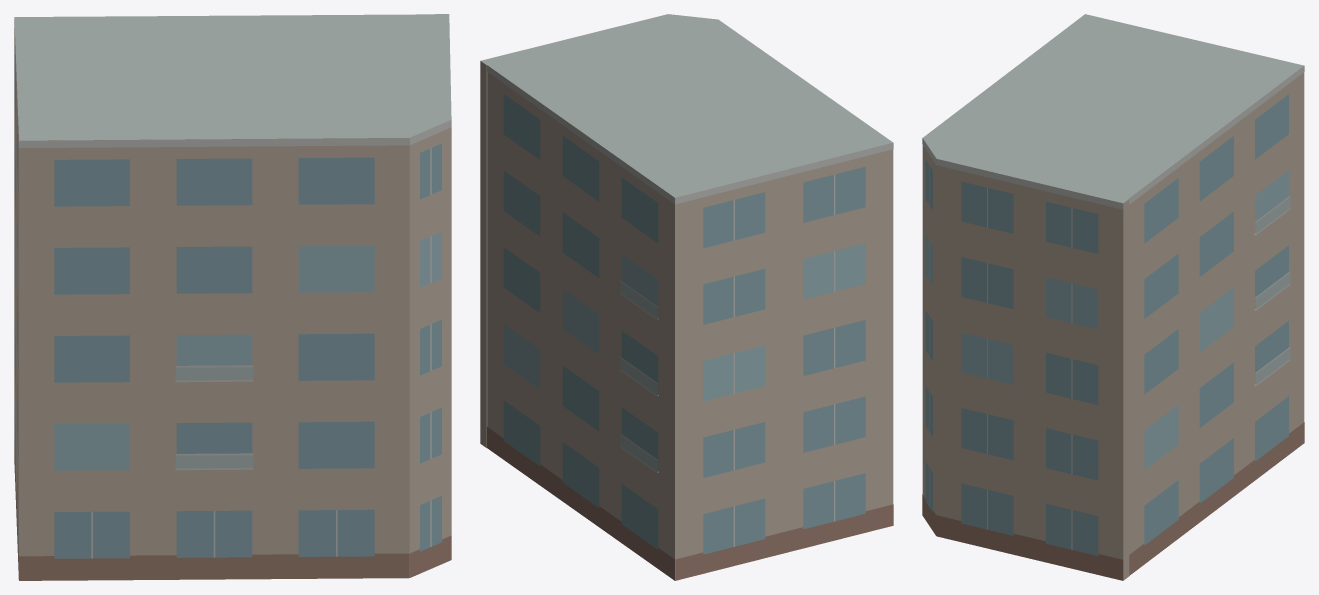
Rendered from survey-upis-32851986.glb.
3 views of the same model, side by side, from view 1: azimuth 30°, elevation 25°; view 2: azimuth 150°, elevation 25°; view 3: azimuth 270°, elevation 25° (orthographic). The views are drawn at different scales.
Visible parts, largest first — view 1: survey-upis-32851986.tmp; view 2: survey-upis-32851986.tmp; view 3: survey-upis-32851986.tmp.
Part boxes in pixels (x1,y1,x2,y2): survey-upis-32851986.tmp: (14,14,451,580); survey-upis-32851986.tmp: (480,14,893,580); survey-upis-32851986.tmp: (922,14,1304,580).
Bounding box in the file's own units: 15.39 × 14.3 × 13.12.
